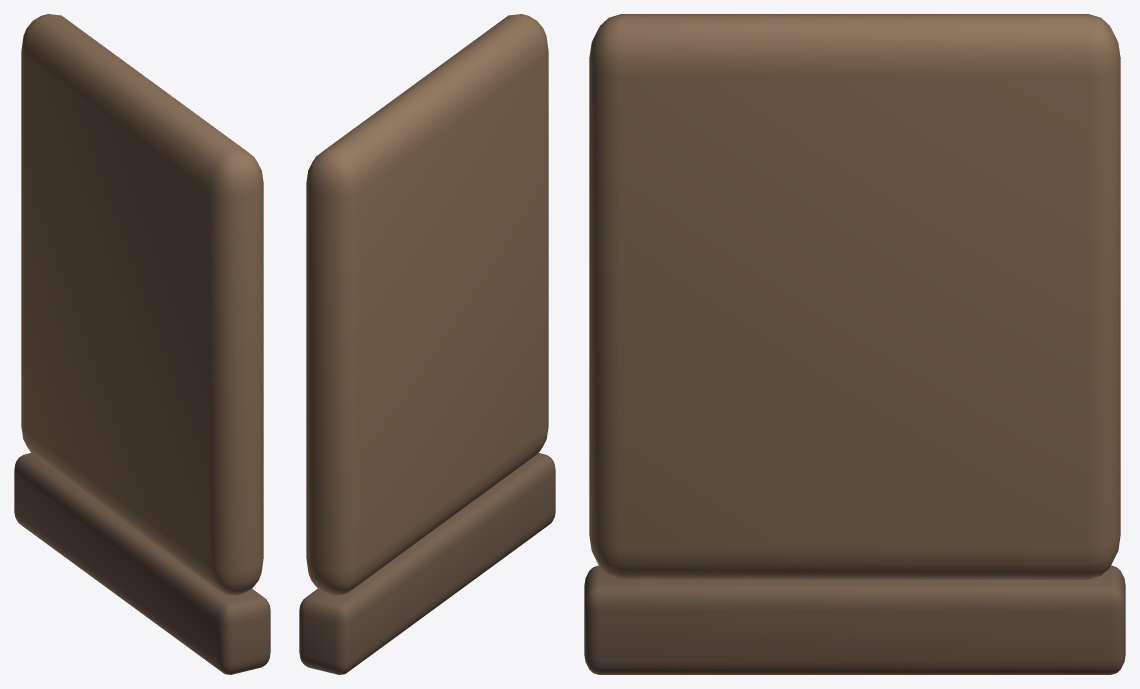
Rendered from recliner_arm.glb.
3 views of the same model, side by side, from view 1: azimuth 30°, elevation 25°; view 2: azimuth 150°, elevation 25°; view 3: azimuth 270°, elevation 25° (orthographic). The views are drawn at different scales.
Parts seen in each view (by area): view 1: Cube.003, Cube.002; view 2: Cube.003, Cube.002; view 3: Cube.003, Cube.002.
Boxes of the visible parts, <box> form: Cube.003: <box>21,14,263,595</box>; Cube.002: <box>14,453,270,674</box>; Cube.003: <box>306,14,548,595</box>; Cube.002: <box>299,453,555,674</box>; Cube.003: <box>589,14,1120,579</box>; Cube.002: <box>584,565,1125,674</box>.
Bounding box in the file's own units: 3 × 29 × 22.
